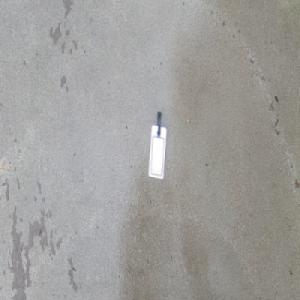LuggageTag: (147, 110, 168, 180)
